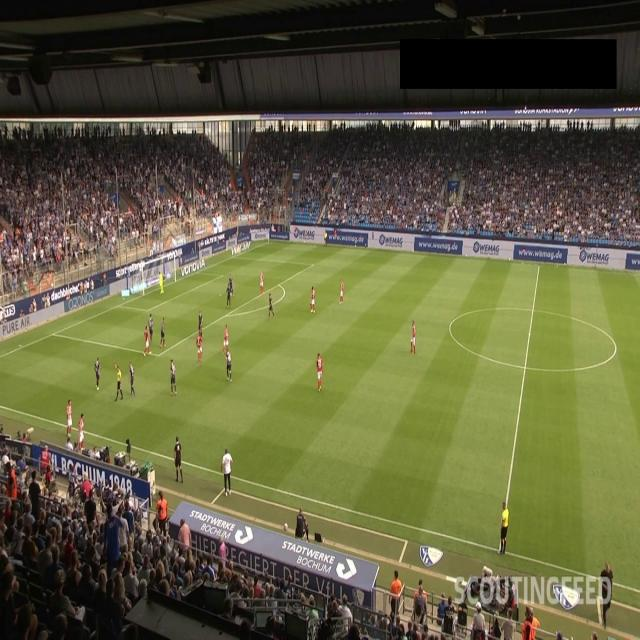ball: (80, 419, 84, 429)
player: (315, 352, 324, 393), (93, 356, 103, 388), (77, 412, 86, 446), (410, 318, 418, 356), (170, 356, 177, 395), (127, 362, 135, 394), (226, 349, 233, 381), (195, 334, 203, 362), (160, 314, 167, 346), (143, 324, 150, 356), (267, 290, 274, 318), (310, 283, 316, 313), (148, 311, 154, 341), (67, 399, 71, 440), (158, 272, 164, 296), (228, 274, 234, 294), (224, 324, 228, 354), (225, 288, 231, 307), (339, 279, 343, 302), (260, 270, 264, 293), (198, 311, 202, 332)
